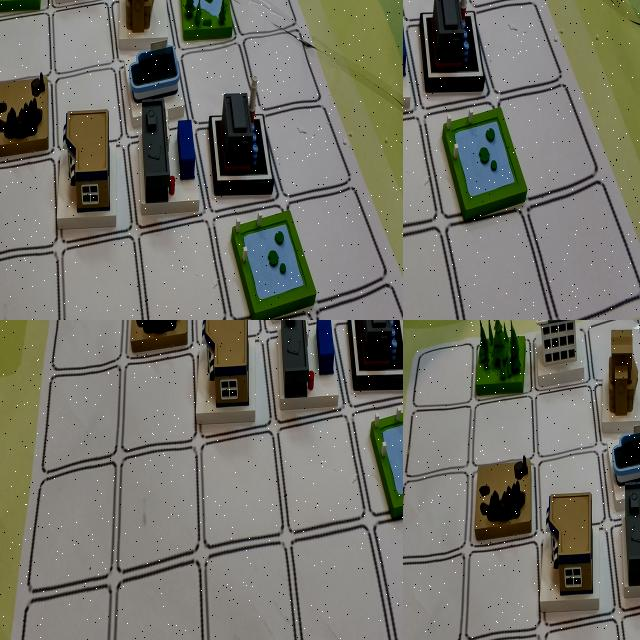bus_stop: (227, 496, 313, 633), (610, 479, 640, 612), (132, 285, 193, 320), (403, 0, 422, 31)
factory: (339, 320, 393, 375), (44, 0, 83, 42), (403, 9, 421, 72)
fish_pool: (85, 320, 152, 369), (0, 0, 44, 43)
forest: (469, 320, 533, 401), (298, 320, 358, 369), (278, 0, 326, 45)
gogo_shop: (226, 367, 302, 483), (178, 24, 232, 130), (601, 416, 640, 518)
research_build: (527, 320, 590, 393), (12, 320, 86, 376), (47, 0, 92, 43), (403, 3, 422, 73)
restaurant: (536, 477, 609, 618), (167, 137, 230, 240), (61, 320, 120, 369)
silicate_rock: (468, 447, 540, 549), (175, 320, 240, 371), (345, 0, 395, 47)
volunteer_center: (590, 320, 640, 445), (118, 320, 179, 371), (82, 0, 127, 43), (403, 65, 421, 121)
wet_land: (115, 127, 165, 235), (403, 71, 423, 145)
